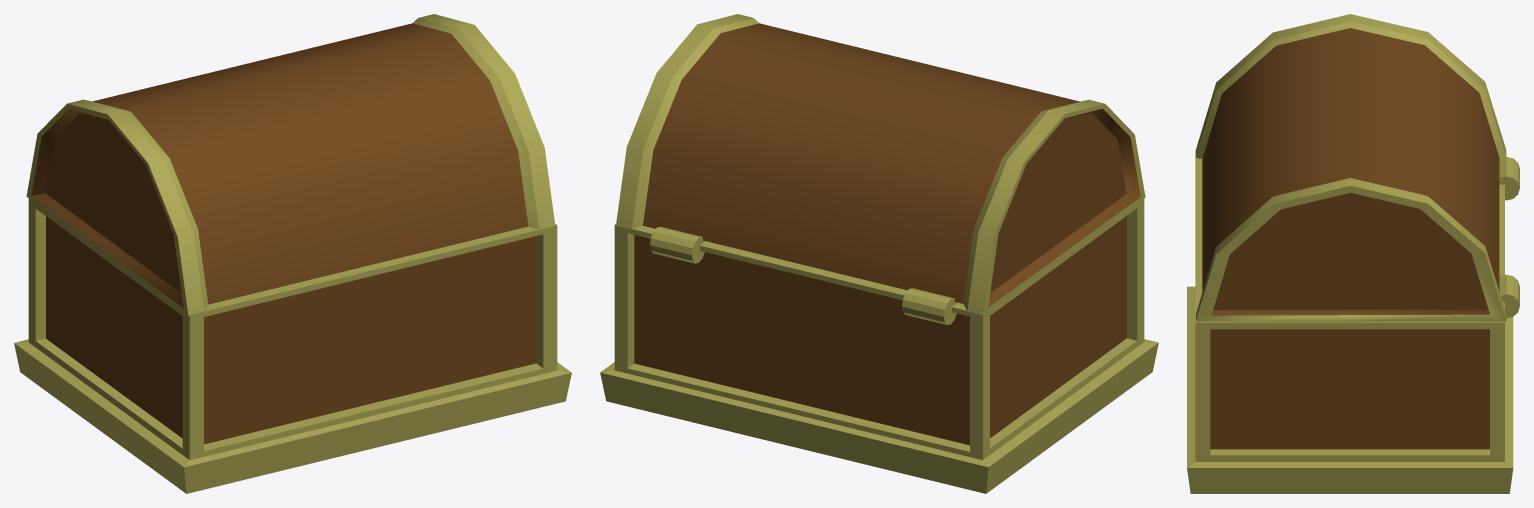
Rendered from Cafe_Chest_Anim.fbx.
3 renders of one model, left to right at view 1: azimuth 30°, elevation 25°; view 2: azimuth 150°, elevation 25°; view 3: azimuth 270°, elevation 25°, orthographic. The views are drawn at different scales.
Visible parts, largest first — view 1: Chest_top, Chest; view 2: Chest_top, Chest; view 3: Chest_top, Chest.
Part boxes in pixels (<box>): Chest_top: <box>26,14,555,315</box>; Chest: <box>14,198,571,493</box>; Chest_top: <box>616,14,1145,315</box>; Chest: <box>600,199,1158,493</box>; Chest_top: <box>1195,14,1506,321</box>; Chest: <box>1187,150,1519,493</box>.
Bounding box in the file's own units: 0.7278 × 0.5693 × 0.5641.
